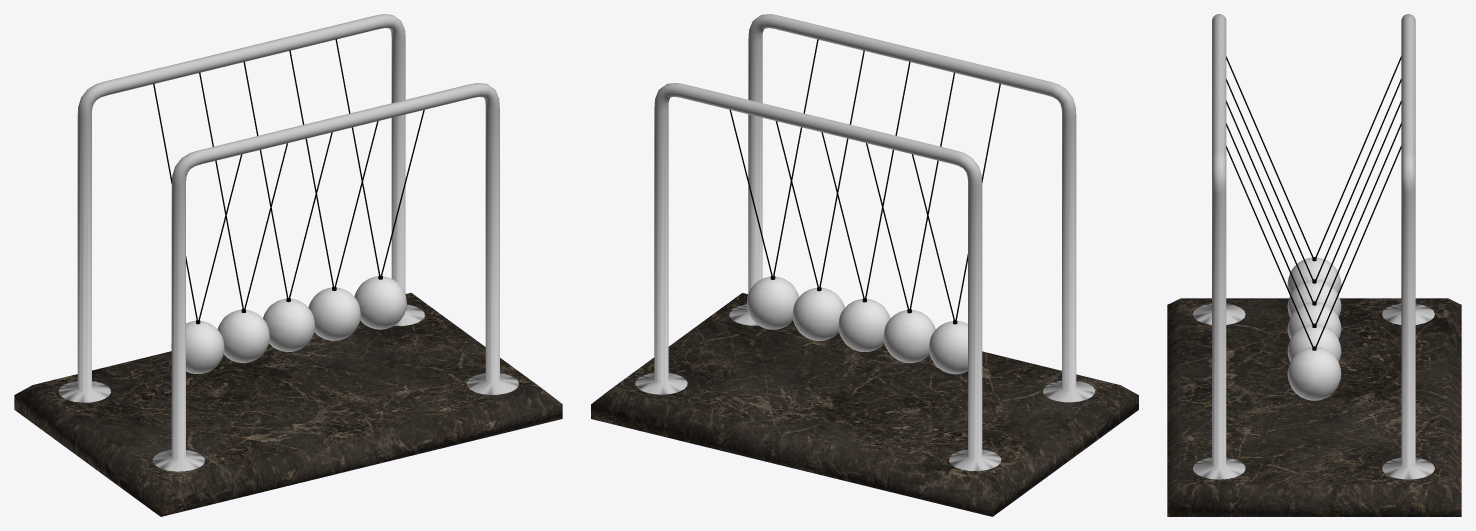
File: pendulum.glb
3 renders of one model, left to right at view 1: azimuth 30°, elevation 25°; view 2: azimuth 150°, elevation 25°; view 3: azimuth 270°, elevation 25°, orthographic.
Parts seen in each view (by area): view 1: StaticMesh225; view 2: StaticMesh225; view 3: StaticMesh225.
Boxes of the visible parts, box(x1,y1,x2,y2) form: StaticMesh225: box(14, 14, 562, 516); StaticMesh225: box(591, 14, 1138, 516); StaticMesh225: box(1167, 14, 1461, 516).
Bounding box in the file's own units: 0.3775 × 0.2974 × 0.2383.
Materials: 6 (1 with a texture image).
